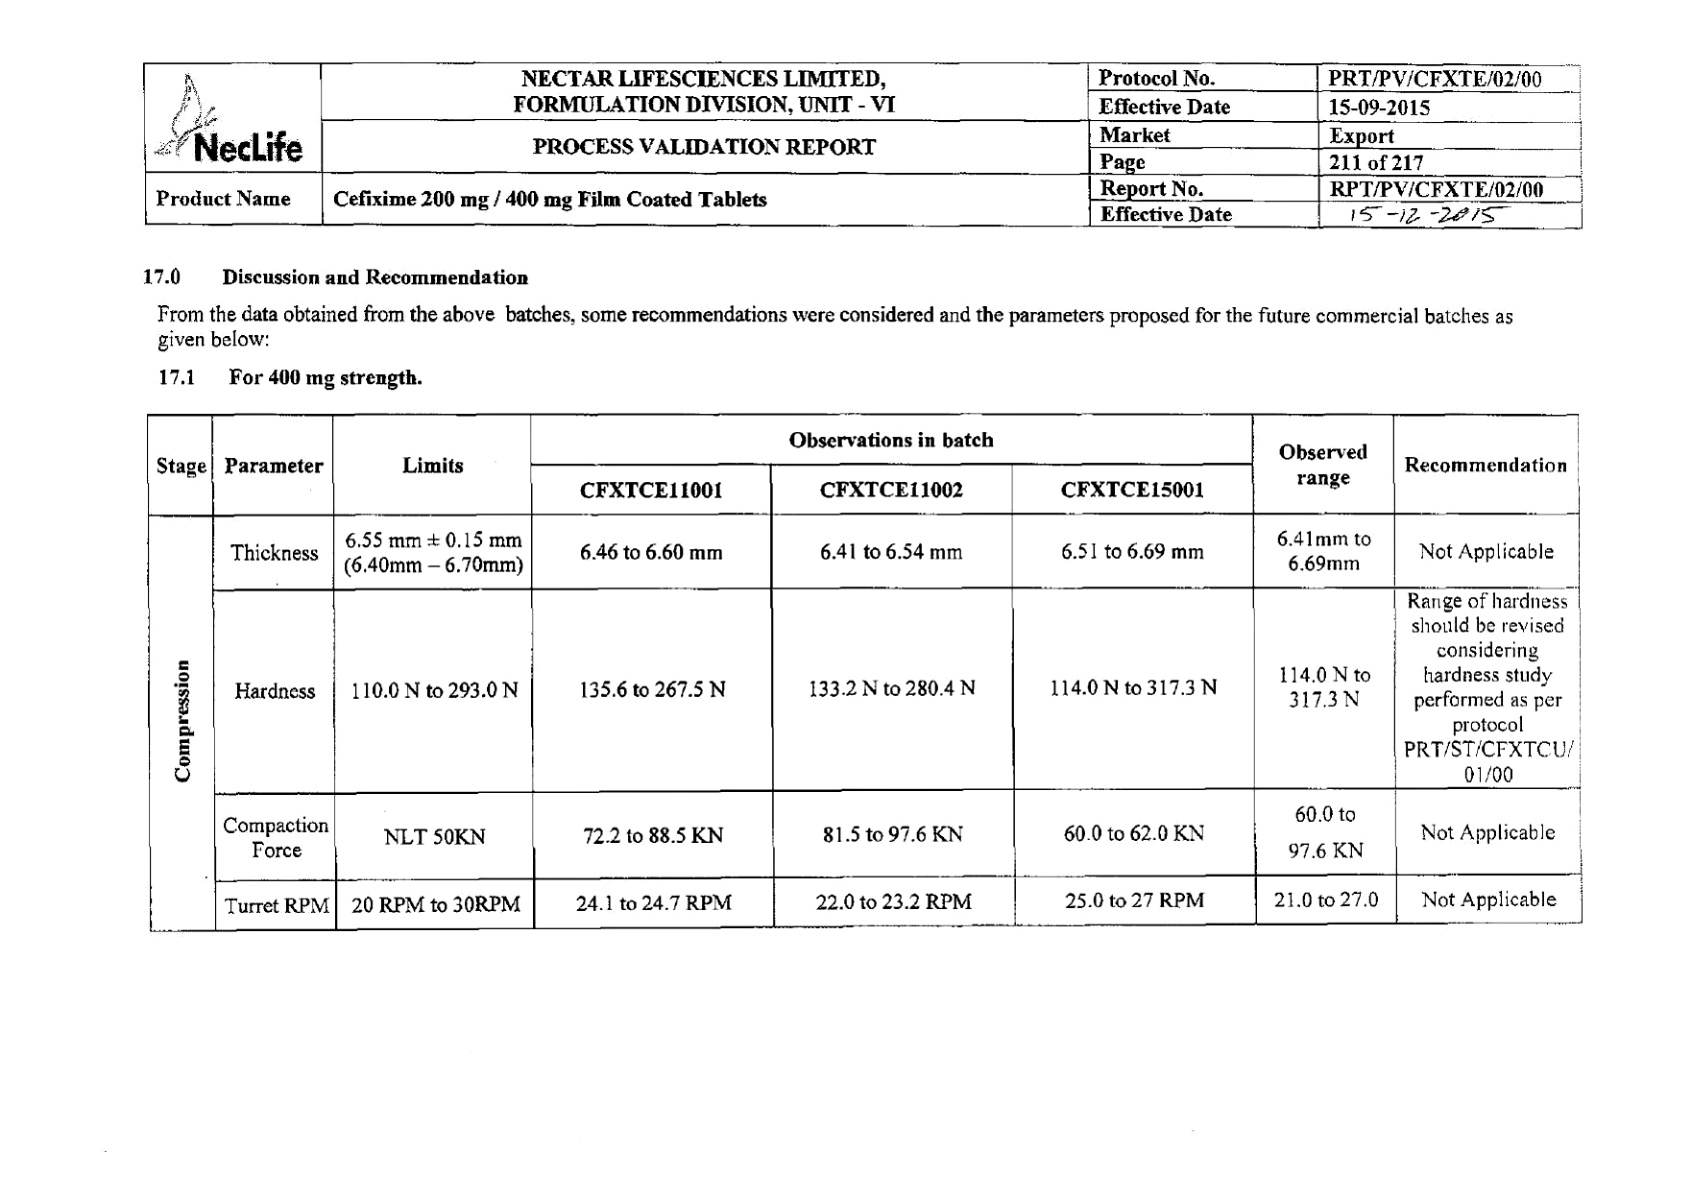merged_cells: (145, 412, 1584, 934), (142, 61, 1584, 231)
